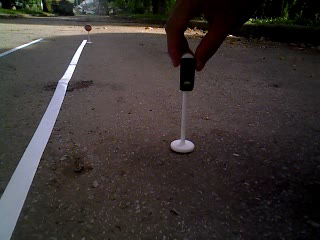Blue: (179, 54, 196, 93)
